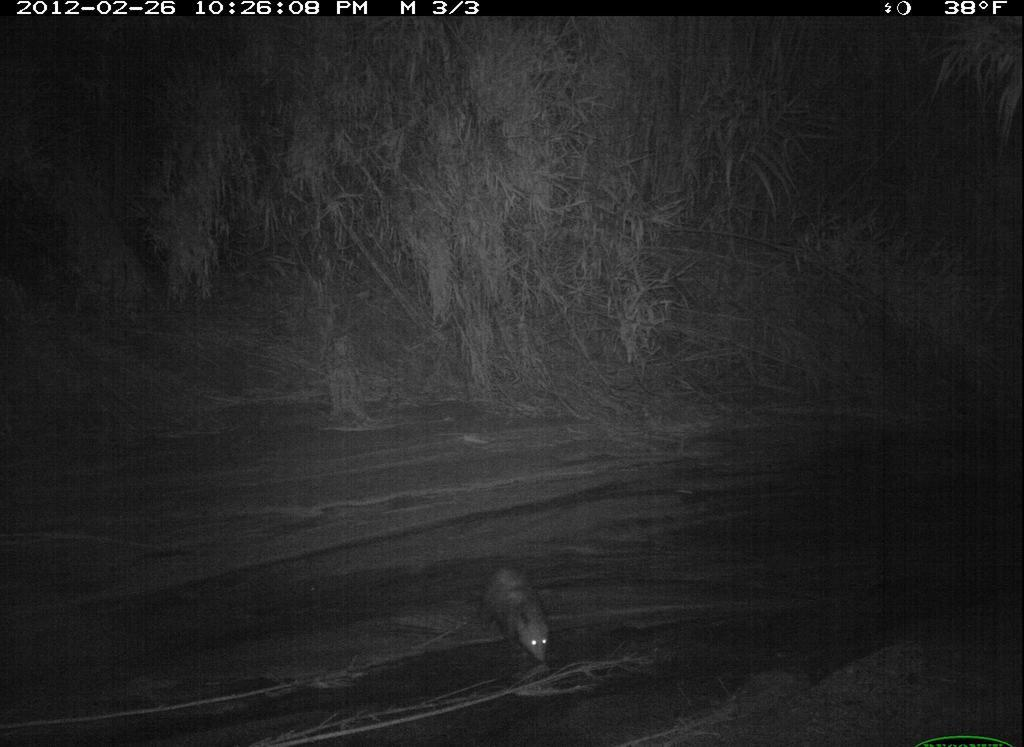opossum: (465, 551, 589, 696)
